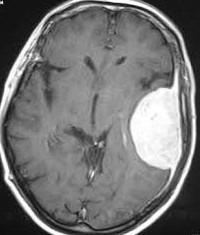Tumour-Meningioma: (126, 75, 191, 178)
